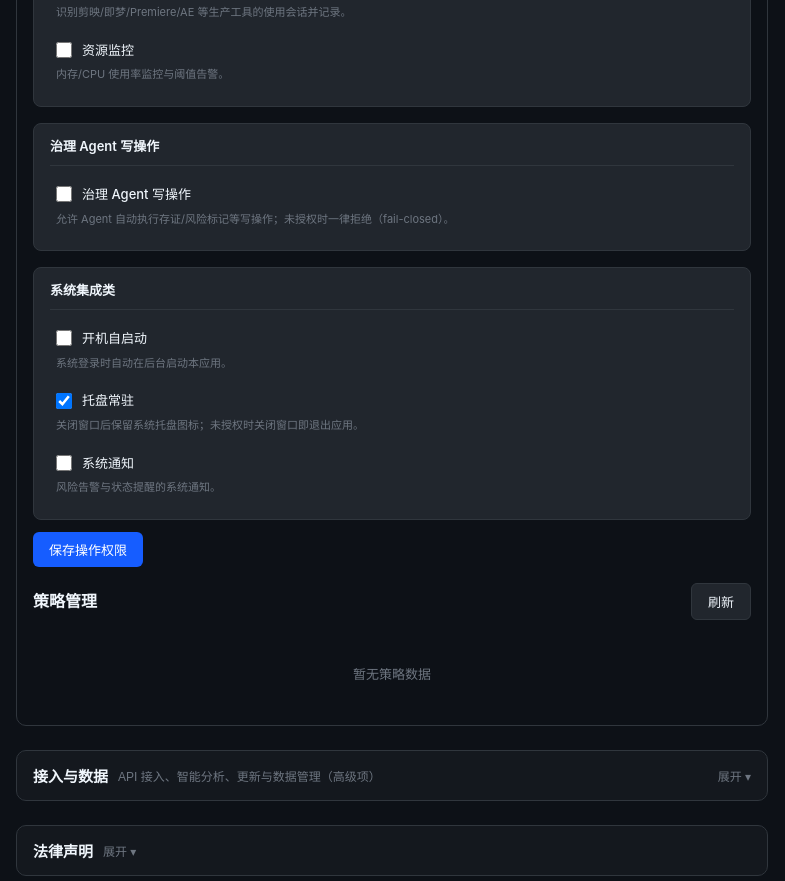
Settings 操作权限区块 › 保存失败（success:false）时展示错误提示
The image size is (785, 881).
(page scrolled)
Click the button "保存操作权限" at (88, 550), box [33,532,143,567]
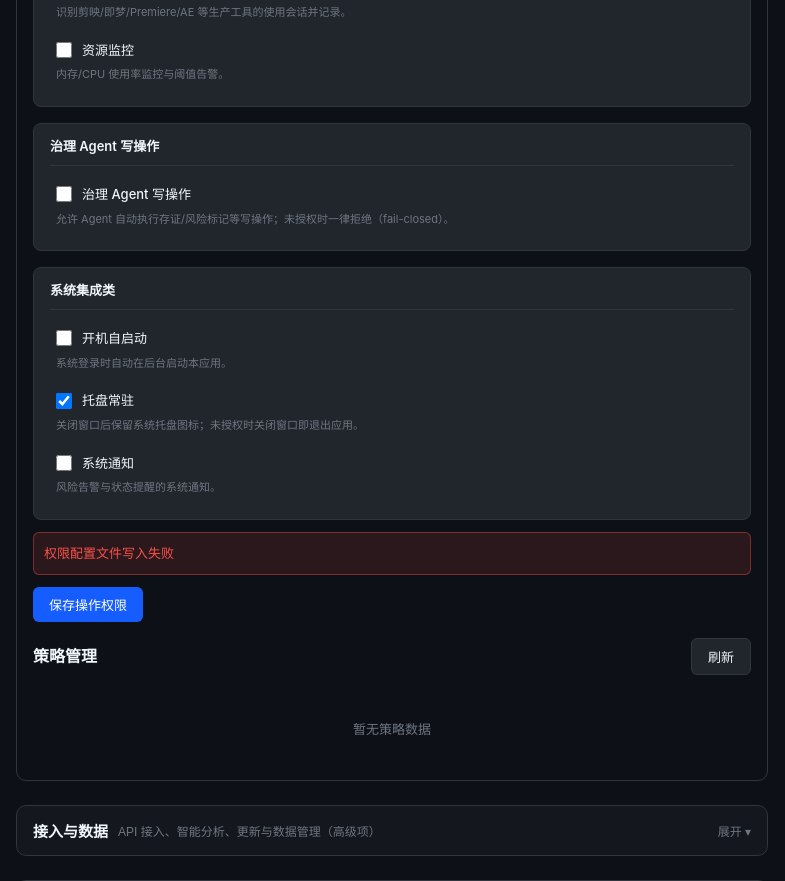
Now the text "权限配置文件写入失败" is shown, box [33,532,751,575]
